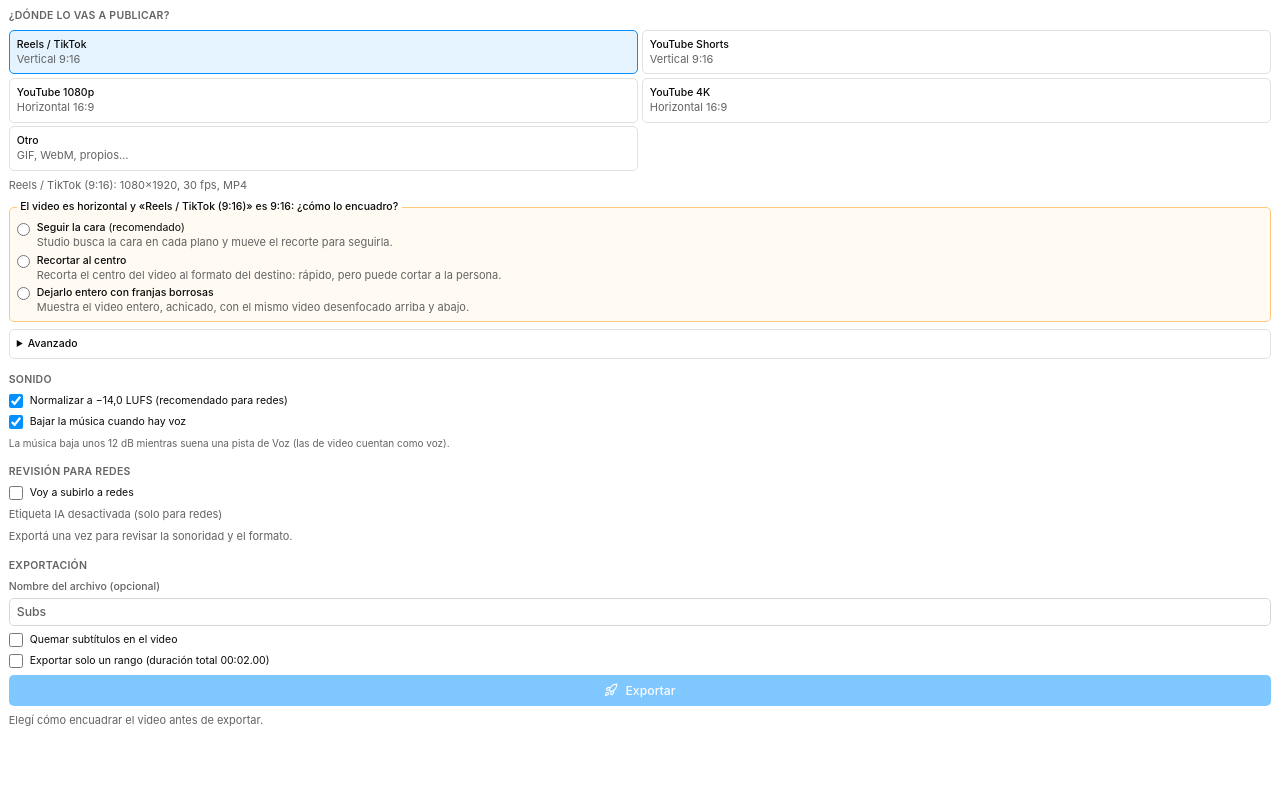
it: ExportPanel burn subtitles (manual bug 2) › defaults to not burning when an animated-captions clip exists and sends the flag
The image size is (1280, 800).
Click the button with test id "export-dest-youtube-1080p": (55, 92) [9,78,638,123]
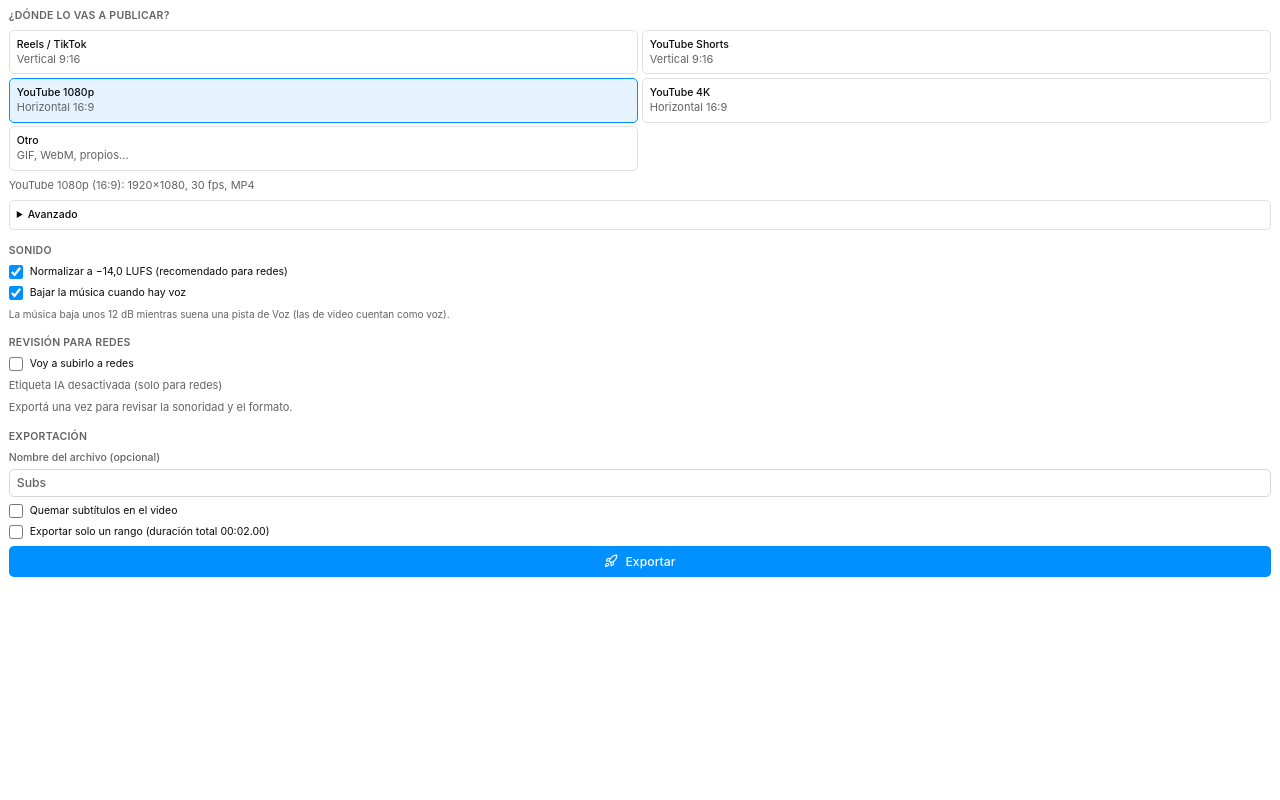
Expected: the checkbox labelled "Quemar subtítulos en el video" is not checked, [9,504,23,518]
Click the button "Exportar": (640, 561) [9,546,1271,577]
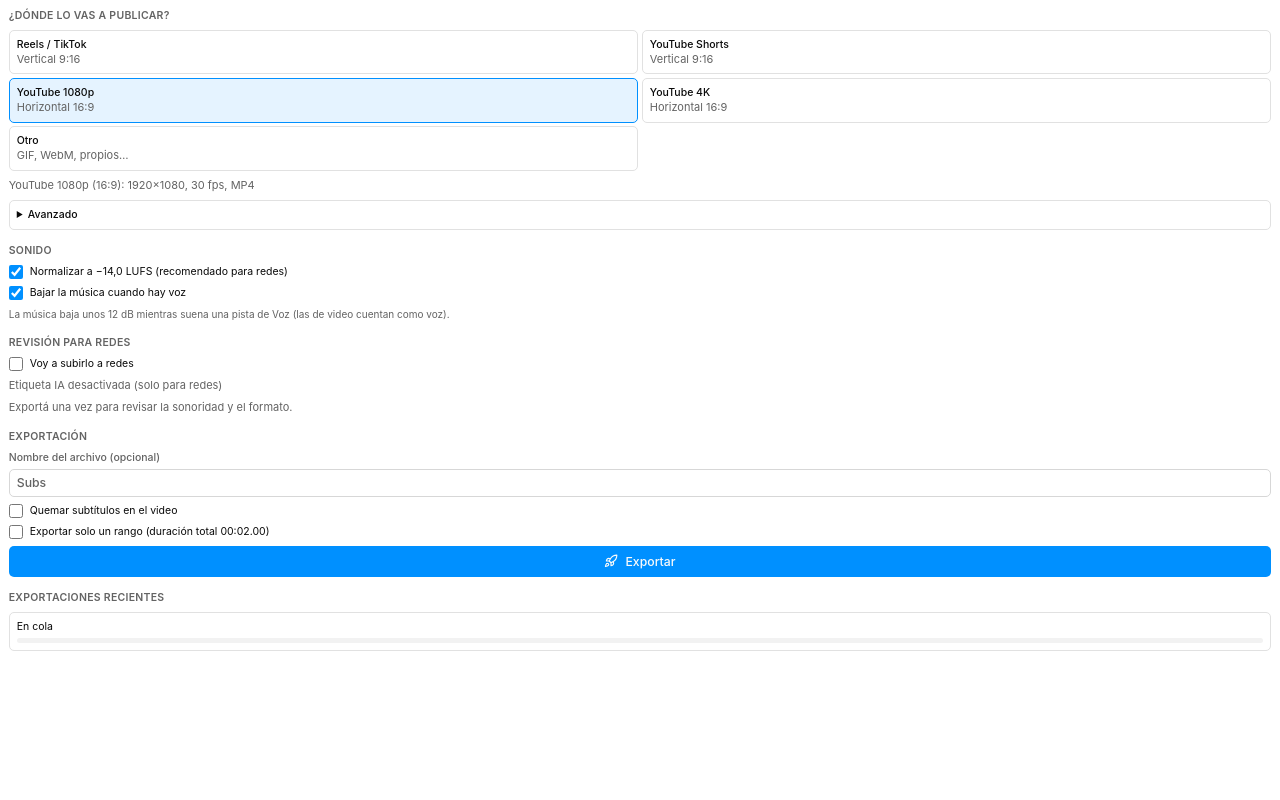
Click the checkbox labelled "Quemar subtítulos en el video": (16, 511) [9,504,23,518]
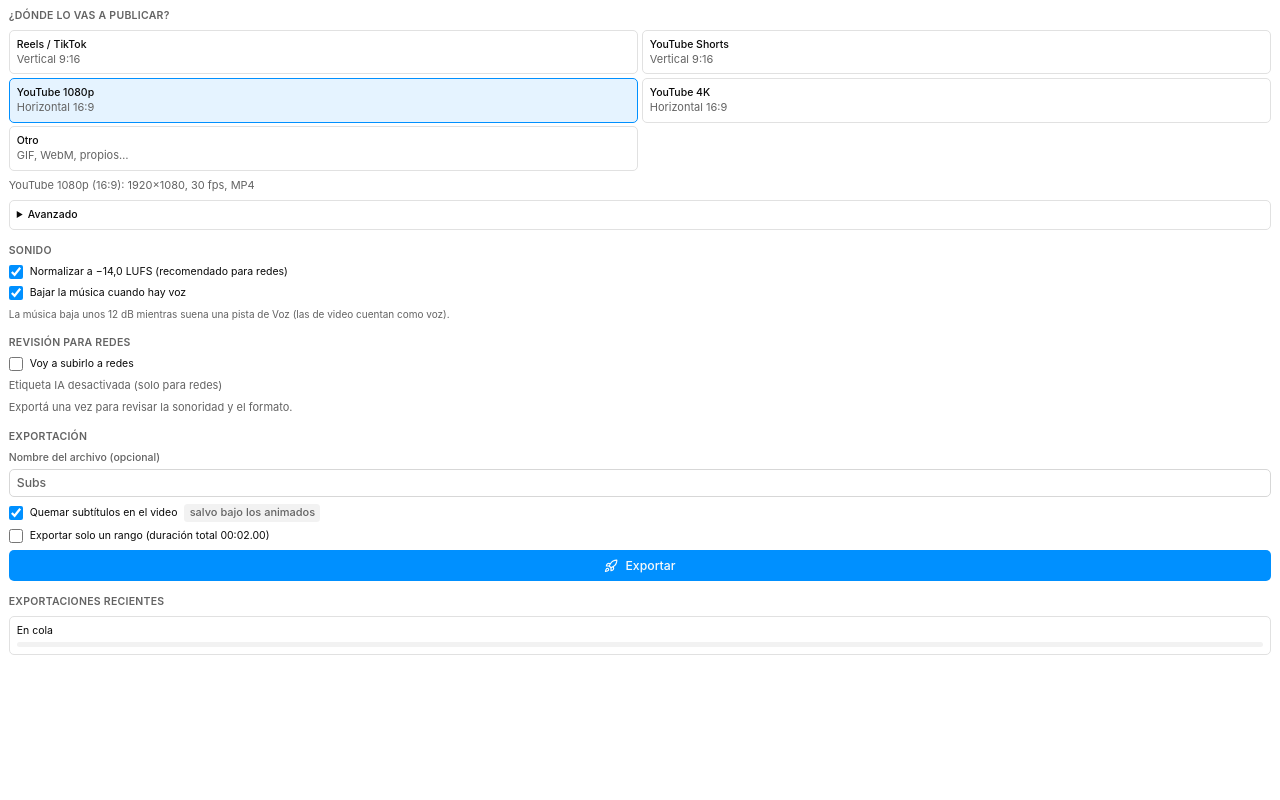
Expected: the checkbox labelled "Quemar subtítulos en el video salvo bajo los animados" is checked, [9,506,23,520]
Expected: the text "salvo bajo los animados" is shown, [184,504,320,522]
